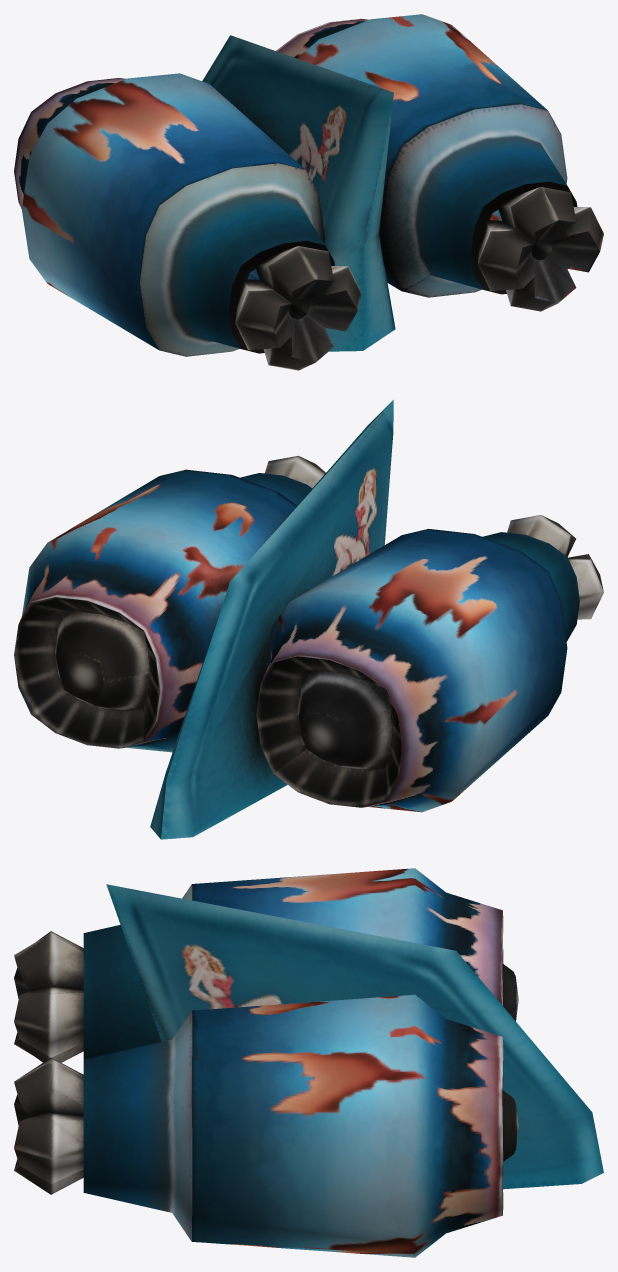
The model's file is Jetpack06_Blue.fbx.
3 renders of one model, top to bottom at view 1: azimuth 30°, elevation 25°; view 2: azimuth 150°, elevation 25°; view 3: azimuth 270°, elevation 25°, orthographic. The views are drawn at different scales.
Visible parts, largest first — view 1: Jetpack06; view 2: Jetpack06; view 3: Jetpack06.
Part boxes in pixels (x1,y1,x2,y2): Jetpack06: [14, 14, 603, 370]; Jetpack06: [14, 400, 603, 839]; Jetpack06: [14, 868, 603, 1257].
Bounding box in the file's own units: 146 × 85.98 × 153.
Materials: 1 (1 with a texture image).
